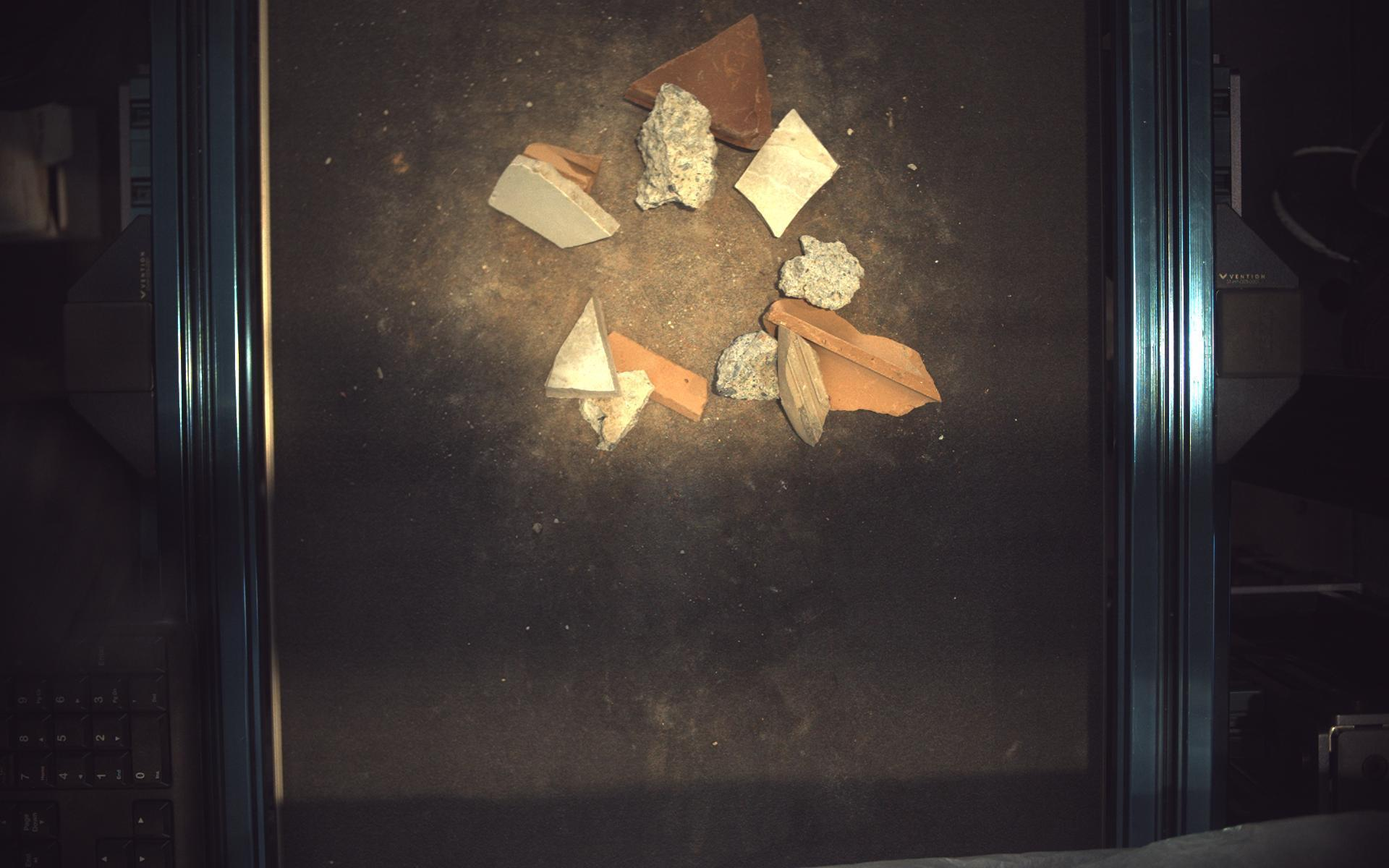brick: (764, 298, 942, 416), (624, 13, 773, 150), (608, 331, 709, 421), (524, 142, 603, 193)
concrete: (637, 82, 719, 209), (780, 235, 866, 310), (580, 370, 655, 451), (714, 331, 781, 400)
tile: (736, 109, 841, 237), (488, 154, 621, 247), (545, 297, 621, 398), (778, 326, 831, 446)
